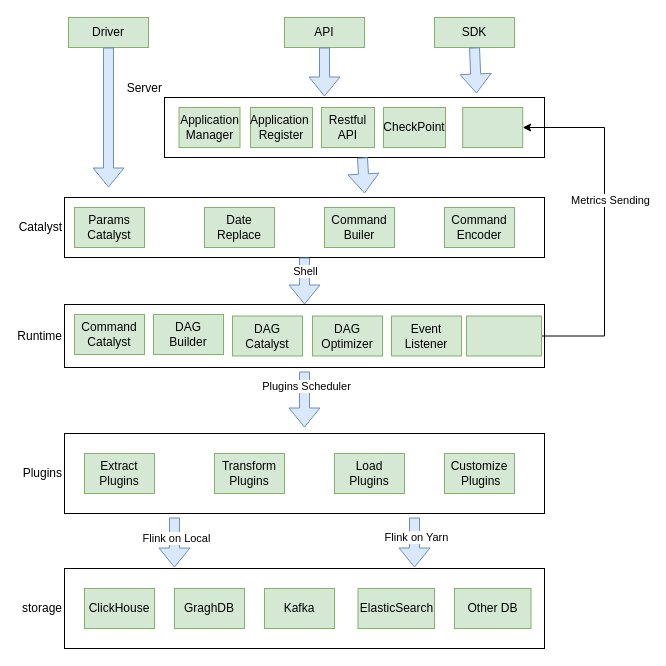
Some shapes in this 666 by 666 pixel diagram are drawn without their labels. Here are the shapes that lost their labels. From the top down, the centre of each, then its label:
At point 492,127: "Metrics Receiver".
At point 504,335: "Metrics Sender".
